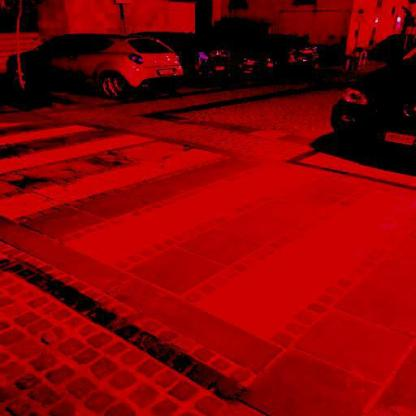crosswalk: (0, 115, 317, 283)
